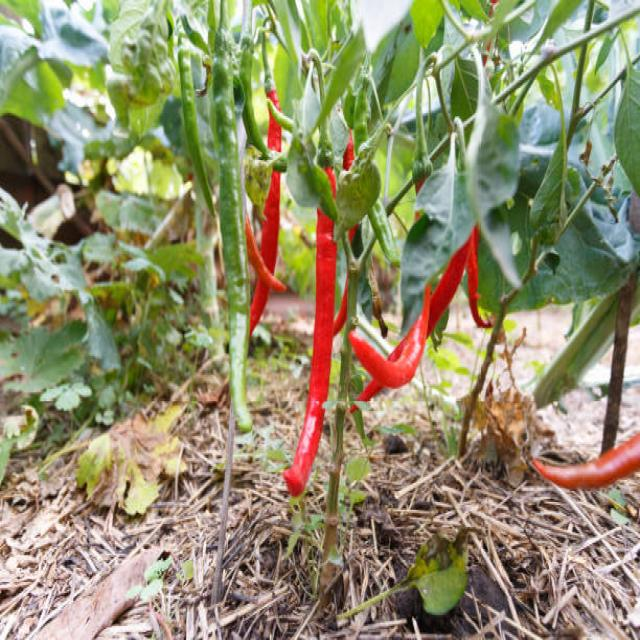Ripe: (283, 212, 336, 496), (350, 290, 430, 398), (250, 171, 290, 334), (533, 431, 639, 488)
Unripe: (209, 14, 255, 438), (176, 28, 218, 213)
